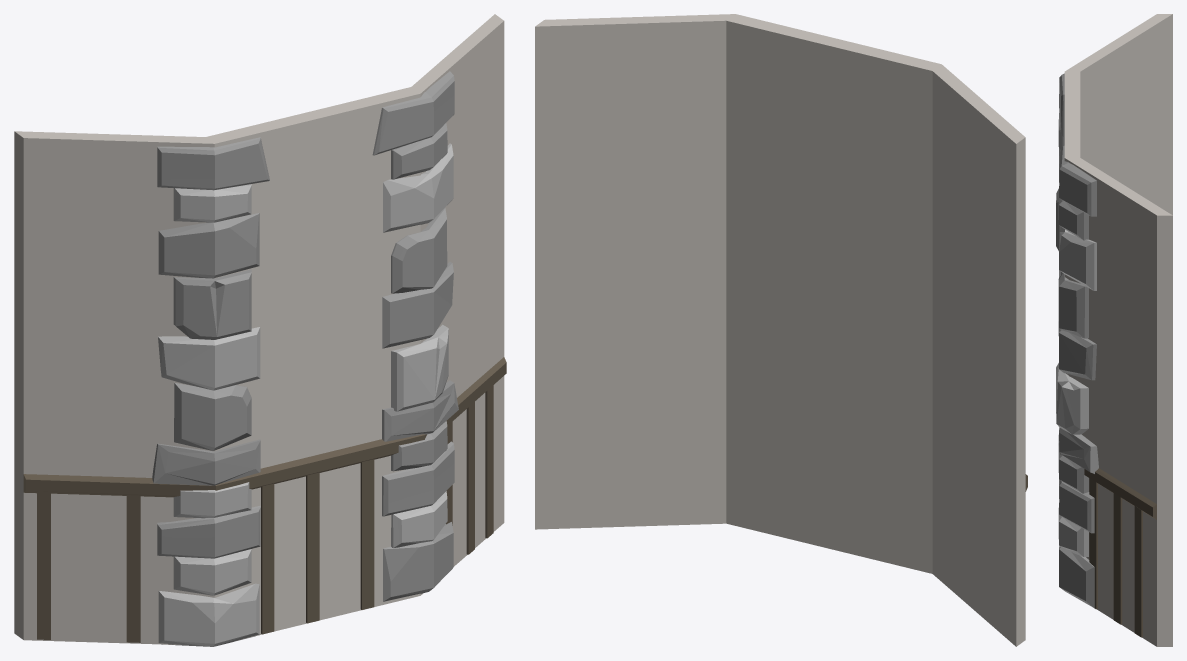
File: _BALKON_01_1_.fbx
The picture shows the model from 3 angles, left to right: view 1: azimuth 30°, elevation 25°; view 2: azimuth 150°, elevation 25°; view 3: azimuth 270°, elevation 25°; orthographic projection. The views are drawn at different scales.
Parts seen in each view (by area): view 1: BALKON_01_1_; view 2: BALKON_01_1_; view 3: BALKON_01_1_.
Boxes of the visible parts, box(x1,y1,x2,y2) form: BALKON_01_1_: box(14, 14, 506, 646); BALKON_01_1_: box(535, 14, 1027, 646); BALKON_01_1_: box(1056, 14, 1172, 646).
Size of the model in its own units: 300 by 300 by 73.51.
